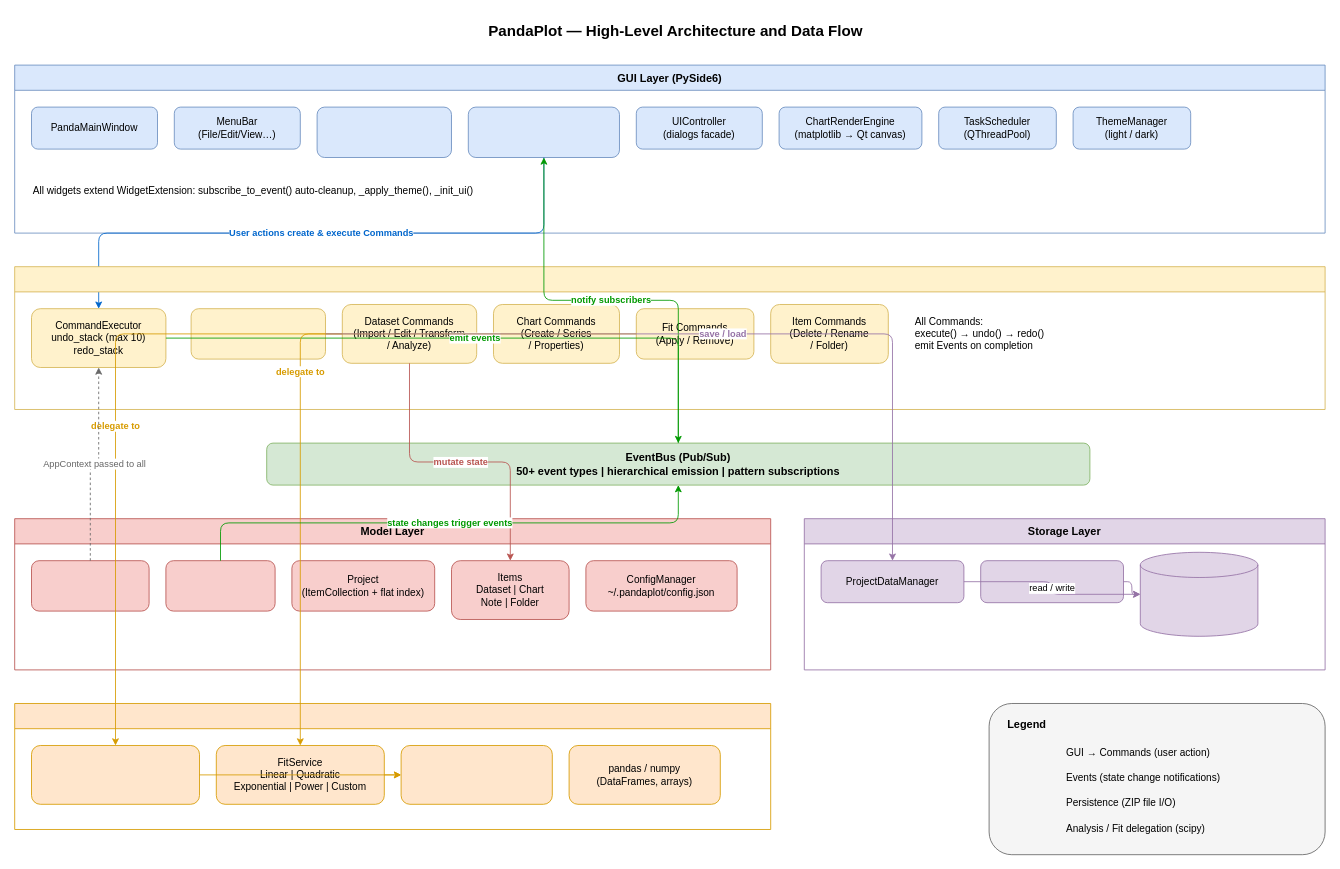
This 1340x869 diagram has some shape labels left out. The shapes that lost their labels are listed below. From the top down, each one's box as (x1, y1, x2, y2) in pixels, then its label:
(316, 106, 452, 158): CollapsibleSidebar (ProjectViewPanel + context panels)
(467, 106, 620, 158): TabContainer (WelcomeTab | DatasetTab | ChartTab | NoteTab)
(190, 308, 326, 359): Project Commands (Create / Open / Save)
(14, 266, 1325, 410): Command Layer
(31, 560, 149, 611): AppContext (DI container)
(165, 560, 275, 611): AppState current_project
(980, 560, 1124, 603): ItemDataManagerFactory
(1139, 551, 1258, 636): .pplot (ZIP) project.json dataset_*.parquet chart_*.json note_*.json
(31, 745, 200, 804): AnalysisEngine Derivative | Integral Smoothing | Interpolation
(14, 703, 771, 830): Analysis / Fit Layer
(400, 745, 552, 804): scipy (optimize, signal, integrate, interpolate)
